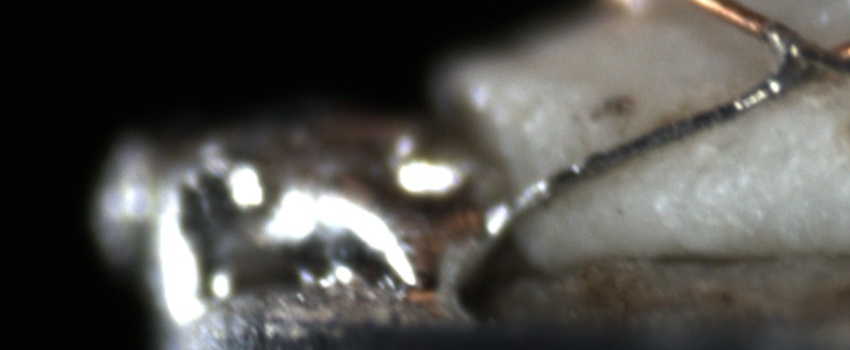CL: (752, 23, 848, 96)
TS: (444, 16, 816, 305)
